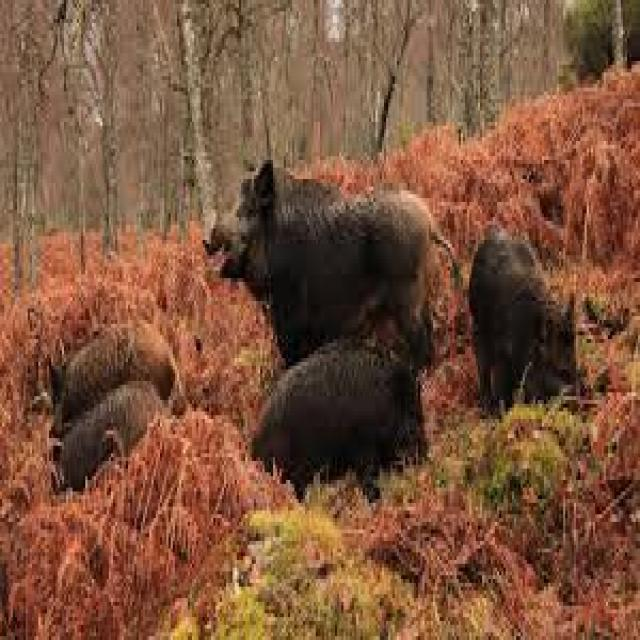Boar: (201, 172, 446, 362)
